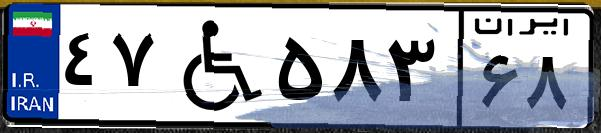3: (385, 28, 445, 110)
4: (57, 26, 110, 100)
5: (270, 28, 330, 110)
6: (475, 38, 525, 113)
7: (110, 28, 158, 98)
8: (330, 28, 385, 110), (525, 38, 570, 115)
ژ (معلولین و جانبازان): (158, 12, 270, 120)
